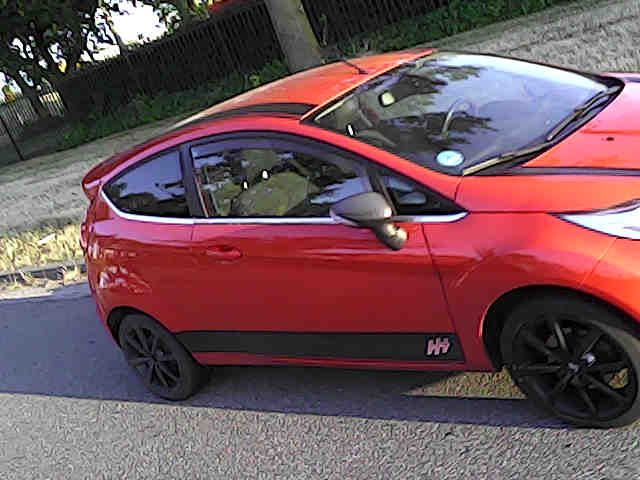suv: (81, 49, 639, 426)
